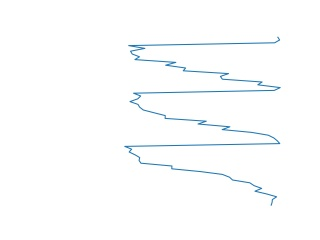distributaryMouthBar: (121, 32, 285, 206)
